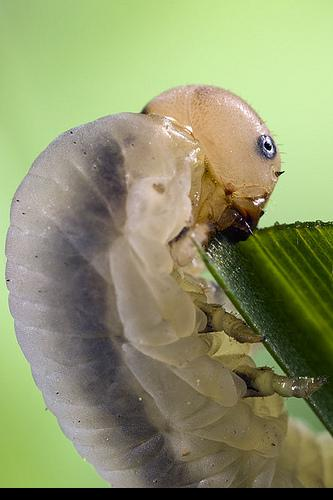grub: (5, 81, 324, 500)
